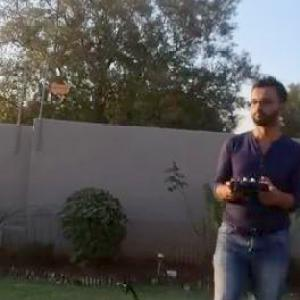follow: (203, 70, 299, 299)
